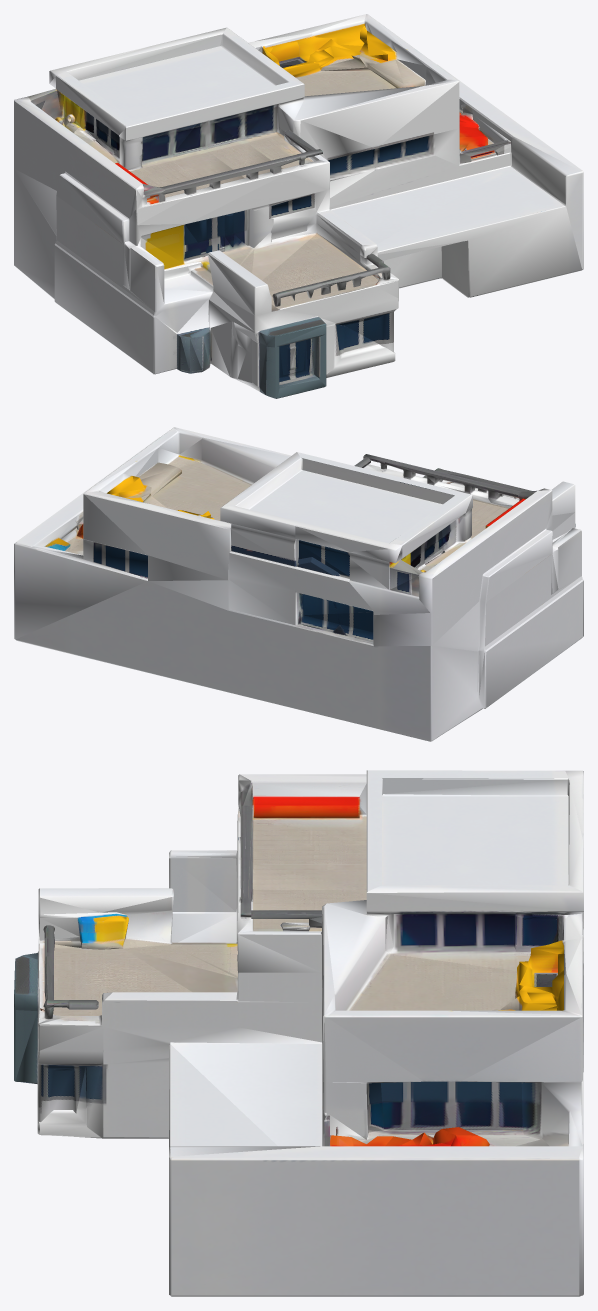
The model's file is placed_bld_556855843.glb.
3 views of the same model, one above another, from view 1: azimuth 30°, elevation 25°; view 2: azimuth 150°, elevation 25°; view 3: azimuth 270°, elevation 25° (orthographic). The views are drawn at different scales.
Visible parts, largest first — view 1: bld_556855843; view 2: bld_556855843; view 3: bld_556855843.
Part boxes in pixels (x1,y1,x2,y2): bld_556855843: [14, 14, 583, 398]; bld_556855843: [14, 427, 583, 741]; bld_556855843: [14, 770, 583, 1296].
Size of the model in its own units: 16.47 by 6.8 by 13.43.
1 material, 1 textured.
